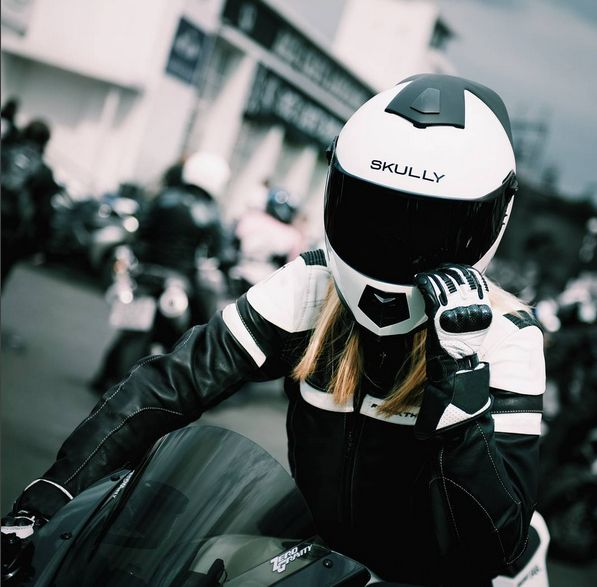helmet: (313, 62, 530, 359)
